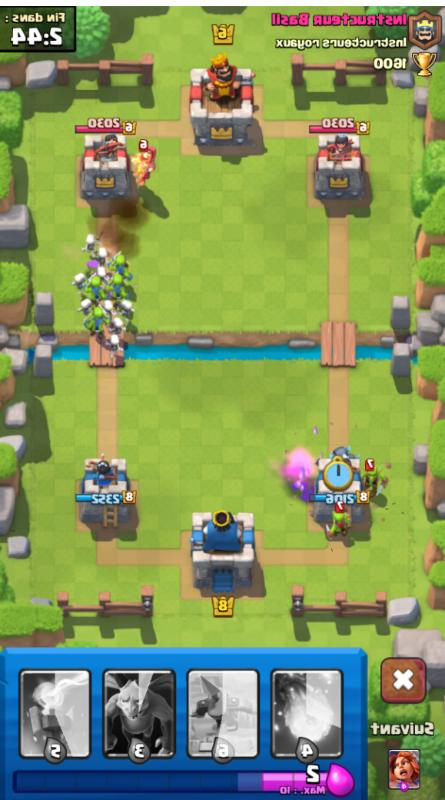gobelin: (359, 460, 388, 501), (326, 506, 356, 544), (84, 305, 111, 340), (104, 249, 133, 281), (84, 275, 109, 304), (106, 275, 133, 301)
mini_PEKKA: (316, 441, 361, 467)
squelette: (78, 230, 106, 253), (102, 333, 124, 359), (66, 270, 87, 295), (95, 300, 117, 322), (108, 316, 127, 339), (117, 298, 136, 321), (91, 247, 111, 267), (92, 264, 110, 286), (75, 297, 94, 315)
